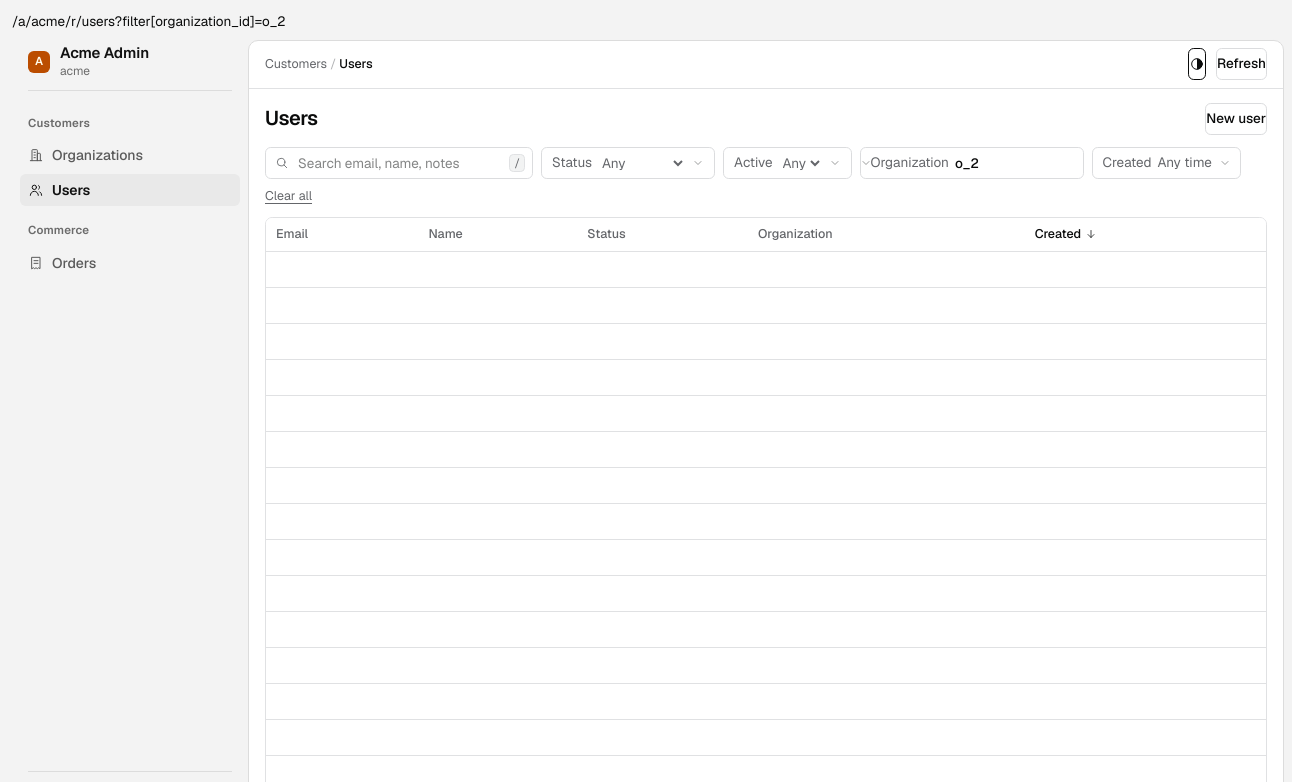
Test: the relation filter › puts every record back when it is set to any
Press ArrowDown in the dropdown labelled "Organization", box [955,147,1054,179]
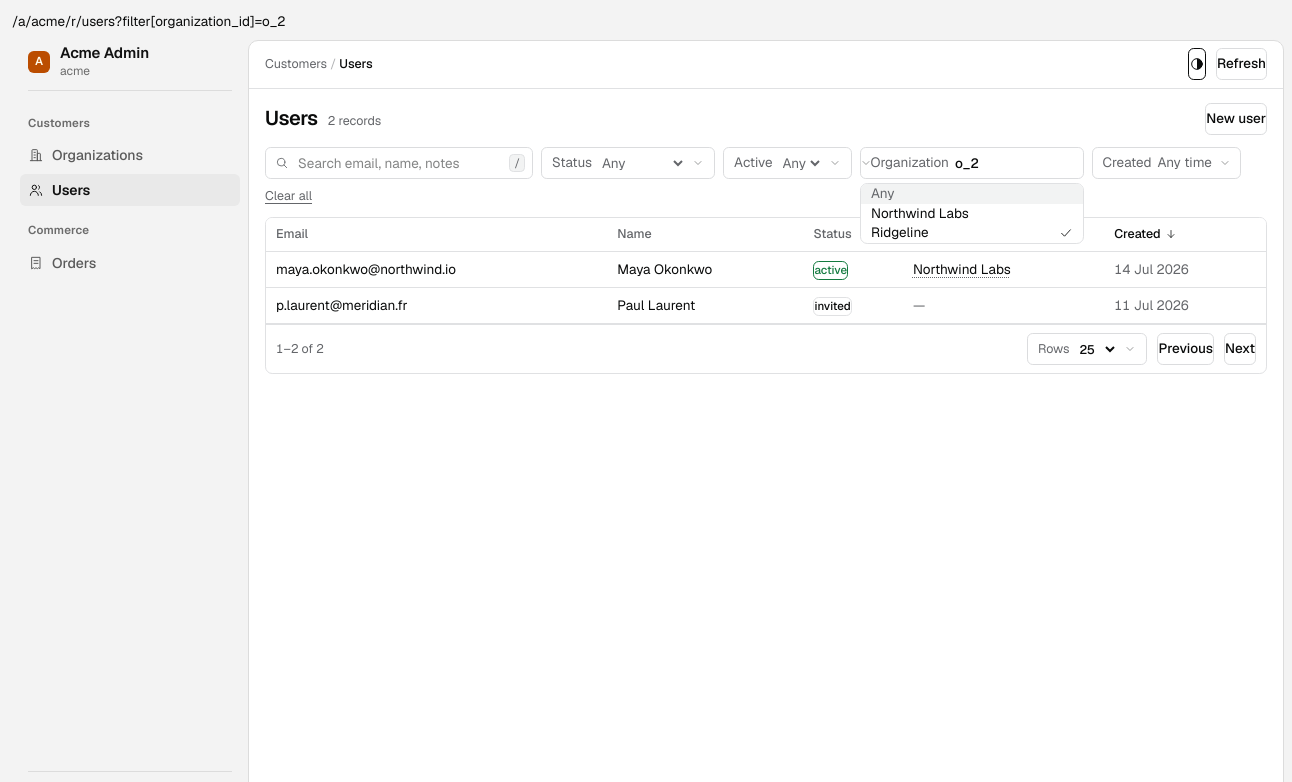
Click the option "Any" at (972, 194), box [861,184,1083,204]
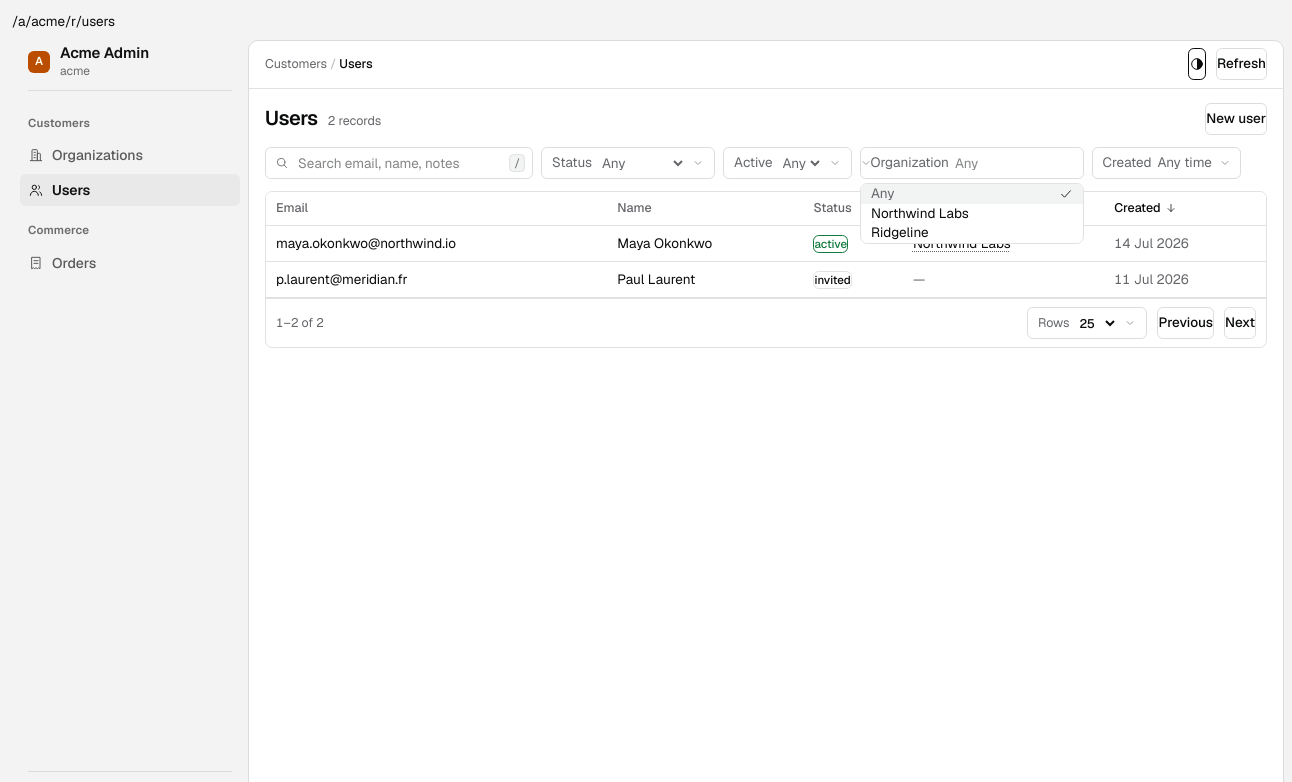
Expected: the text with test id "url" no longer shows "organization_id"
